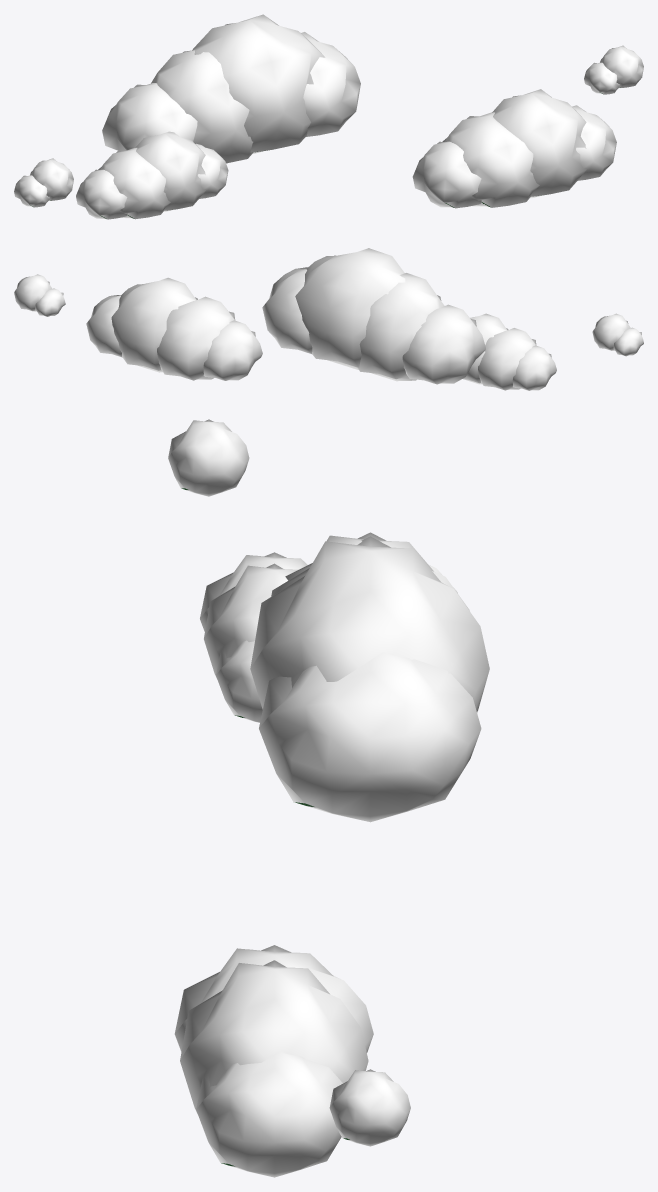
The model's file is obj_cloud.fbx.
3 views of the same model, one above another, from view 1: azimuth 30°, elevation 25°; view 2: azimuth 150°, elevation 25°; view 3: azimuth 270°, elevation 25° (orthographic). The views are drawn at different scales.
Parts seen in each view (by area): view 1: obj_cloud; view 2: obj_cloud; view 3: obj_cloud.
Boxes of the visible parts, bbox=[...] form: obj_cloud: bbox=[14, 14, 643, 219]; obj_cloud: bbox=[14, 248, 643, 390]; obj_cloud: bbox=[168, 419, 489, 1177].
Bounding box in the file's own units: 21.04 × 6.63 × 5.02.
Materials: 1 (1 with a texture image).
